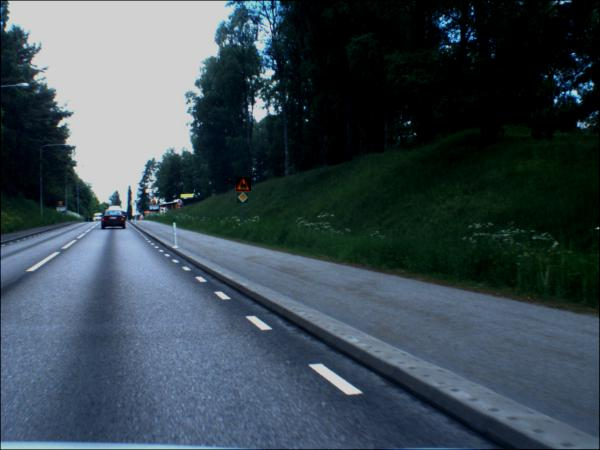50_SIGN: (59, 203, 65, 209), (153, 201, 158, 207)
PRIORITY_ROAD: (238, 194, 250, 205)
WARNING: (237, 178, 253, 193)
